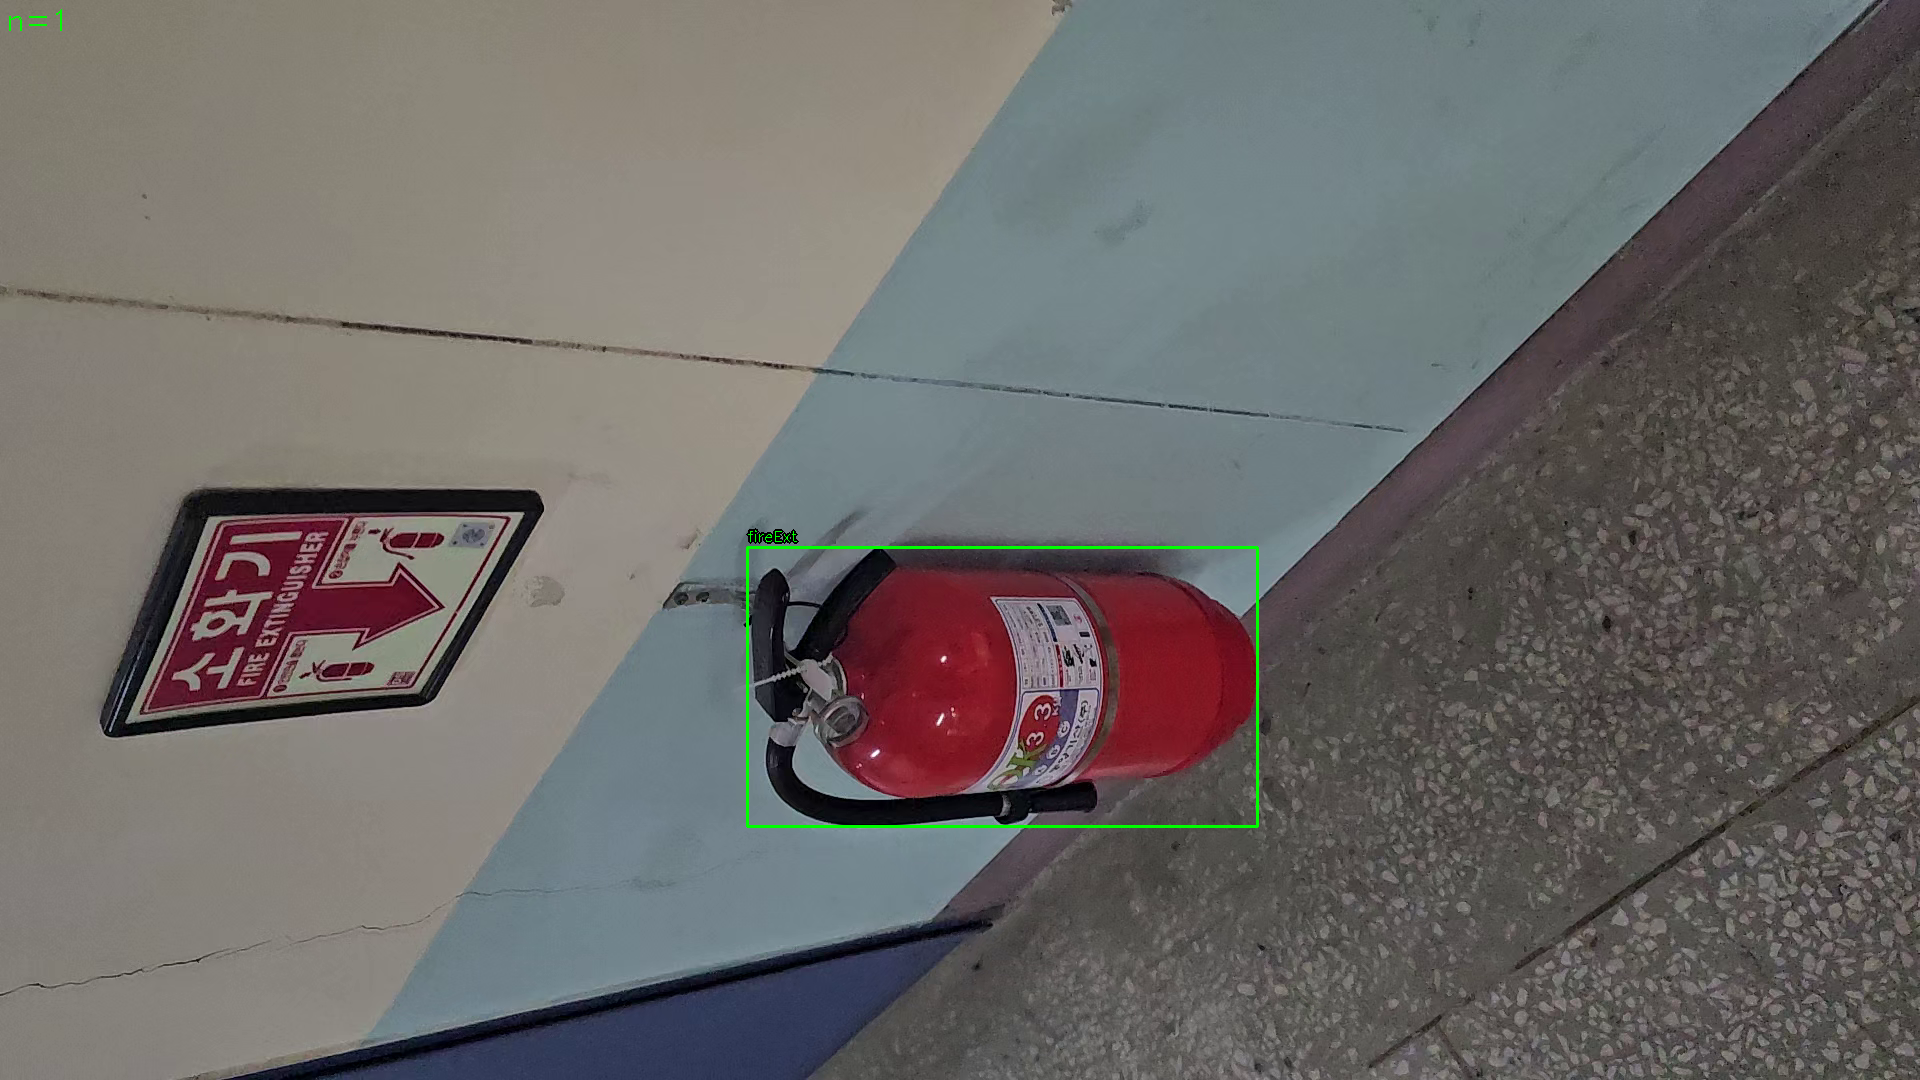lane: (746, 547, 1258, 827)
